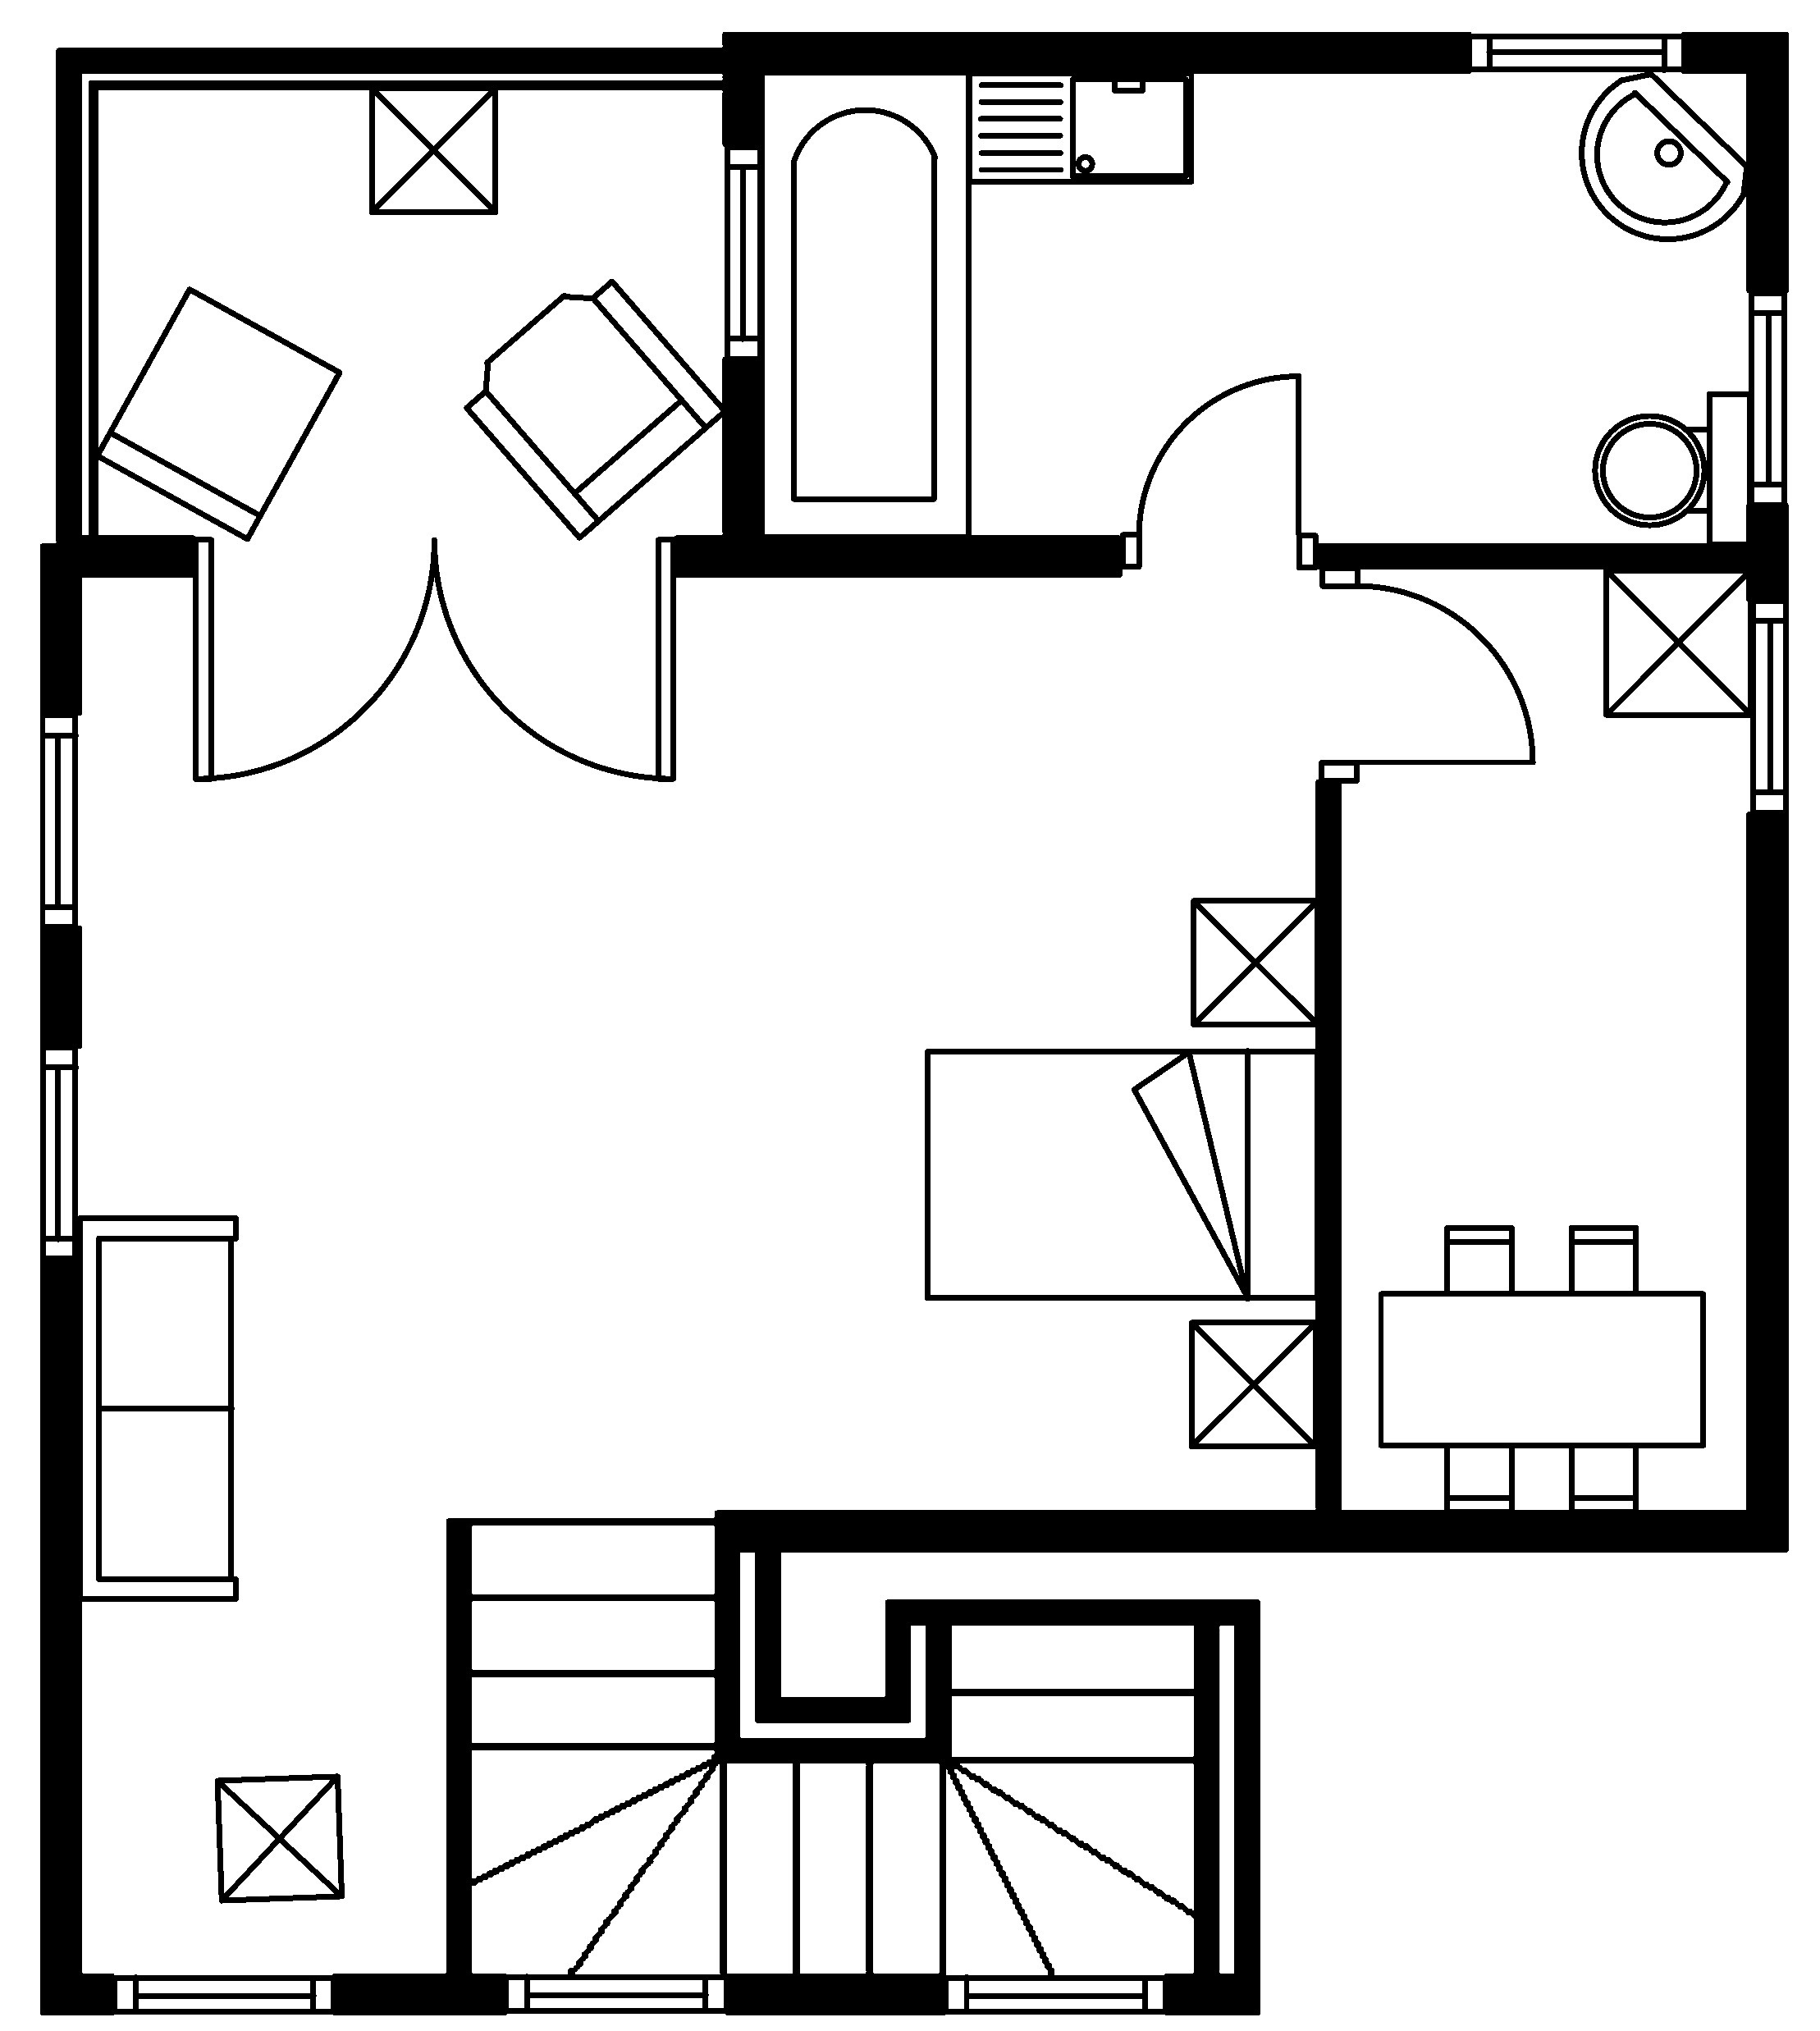armchair: (462, 276, 727, 541)
bed: (922, 1047, 1321, 1302)
coffee_table: (1602, 566, 1753, 719), (213, 1771, 344, 1905), (1186, 1318, 1319, 1449), (1189, 896, 1321, 1028), (367, 84, 499, 214)
dining_table: (1376, 1223, 1706, 1516)
large_sink: (1592, 388, 1753, 548)
large_sofa: (76, 1214, 239, 1602)
sink: (964, 69, 1195, 184)
small_sink: (1578, 70, 1750, 241)
small_sofa: (93, 285, 343, 543)
tub: (757, 69, 971, 539)
